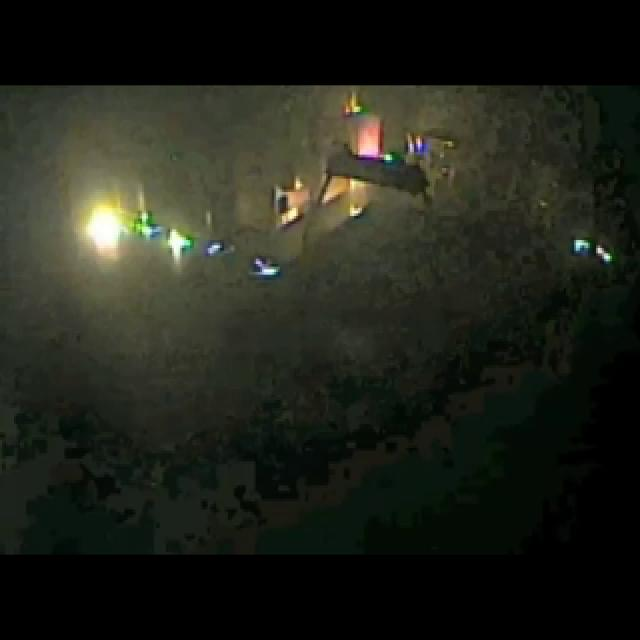arson: (67, 80, 477, 326)
